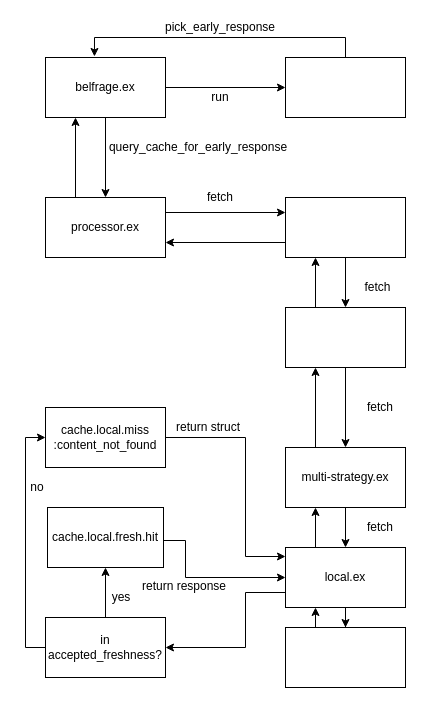
Some shapes in this 442 by 705 pixel diagram are drawn without their labels. The shapes that lost their labels are listed below. From the top down, each one's box as (x1, y1, x2, y2) in pixels, then its label:
(284, 56, 406, 118): concurrently.ex
(284, 196, 406, 258): cache.ex
(284, 306, 406, 368): fetch.ex
(284, 626, 406, 688): cachex.get
